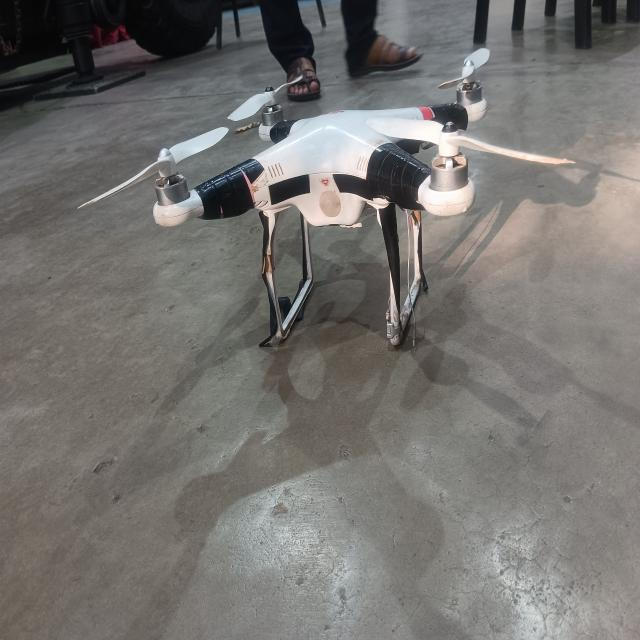drone: (77, 52, 587, 348)
